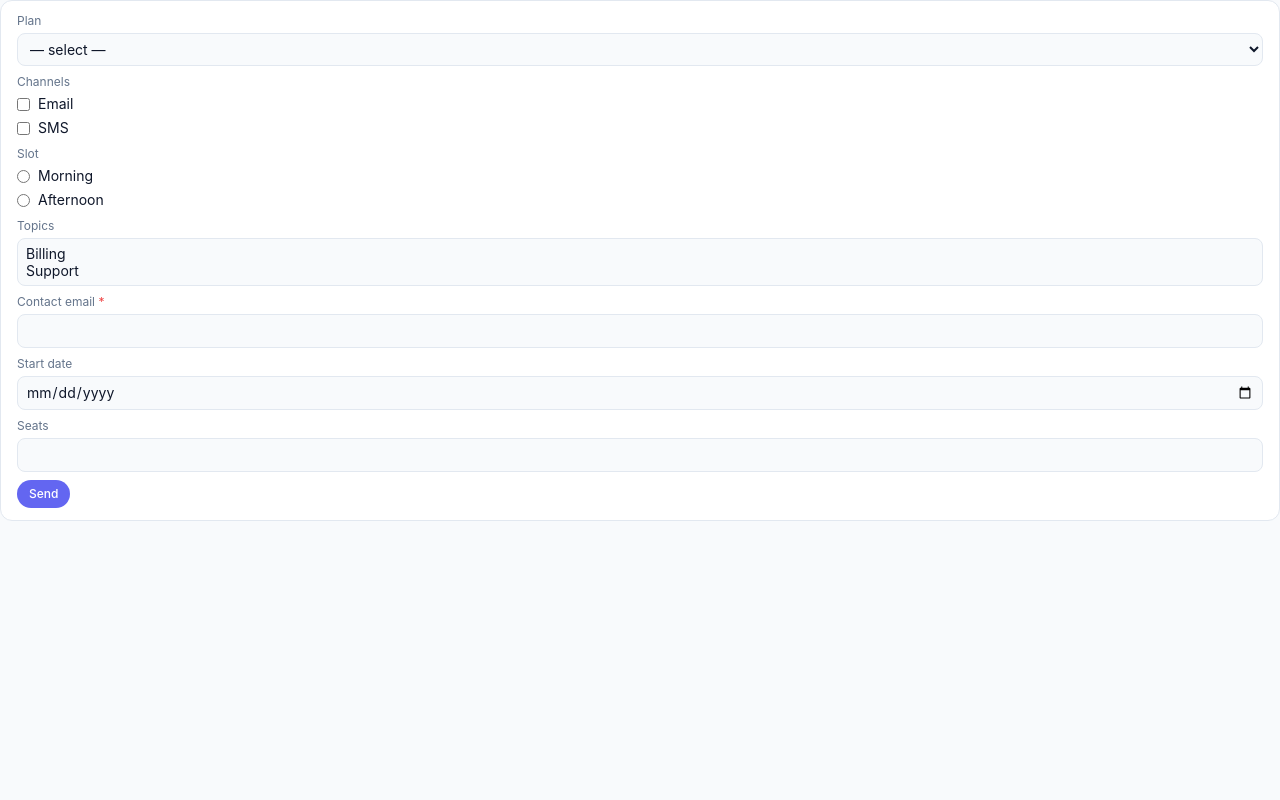
Test: RichCardView form block › rejects an invalid email and an out-of-range number
The image size is (1280, 800).
Step 1. Type "not-an-email" into the field labelled "Contact email *" → (640, 331), box [17,314,1263,348]
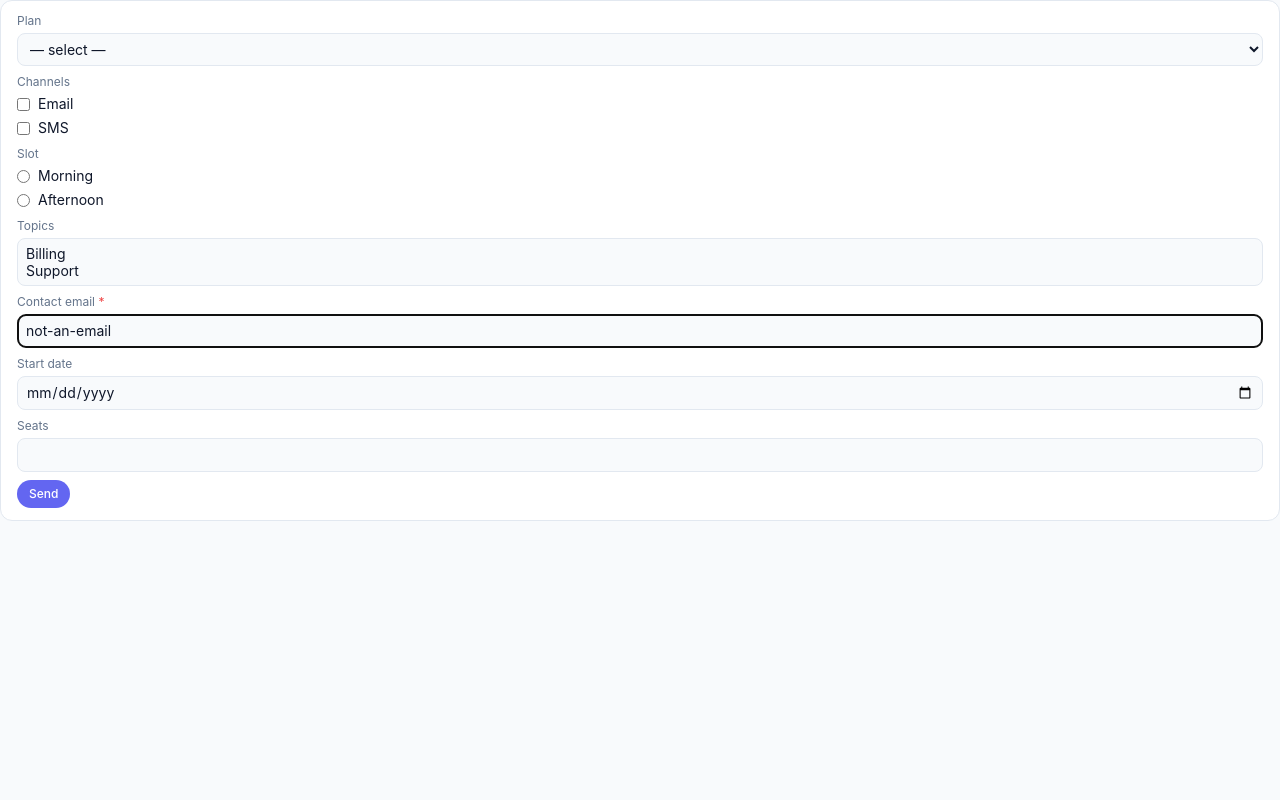
Step 2. Type "9" into the number field labelled "Seats" → (640, 455), box [17,438,1263,472]
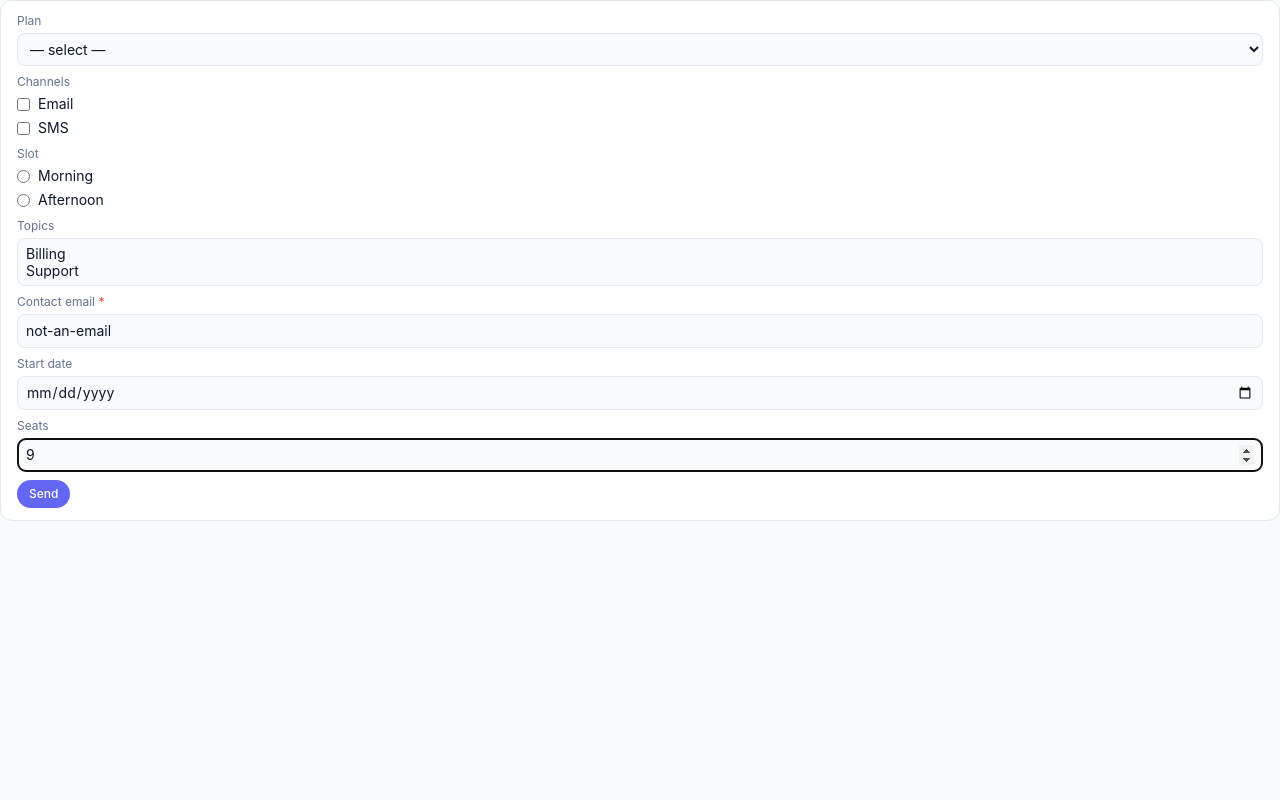
Step 3. Click the button "Send" → (44, 494), box [17,480,70,508]
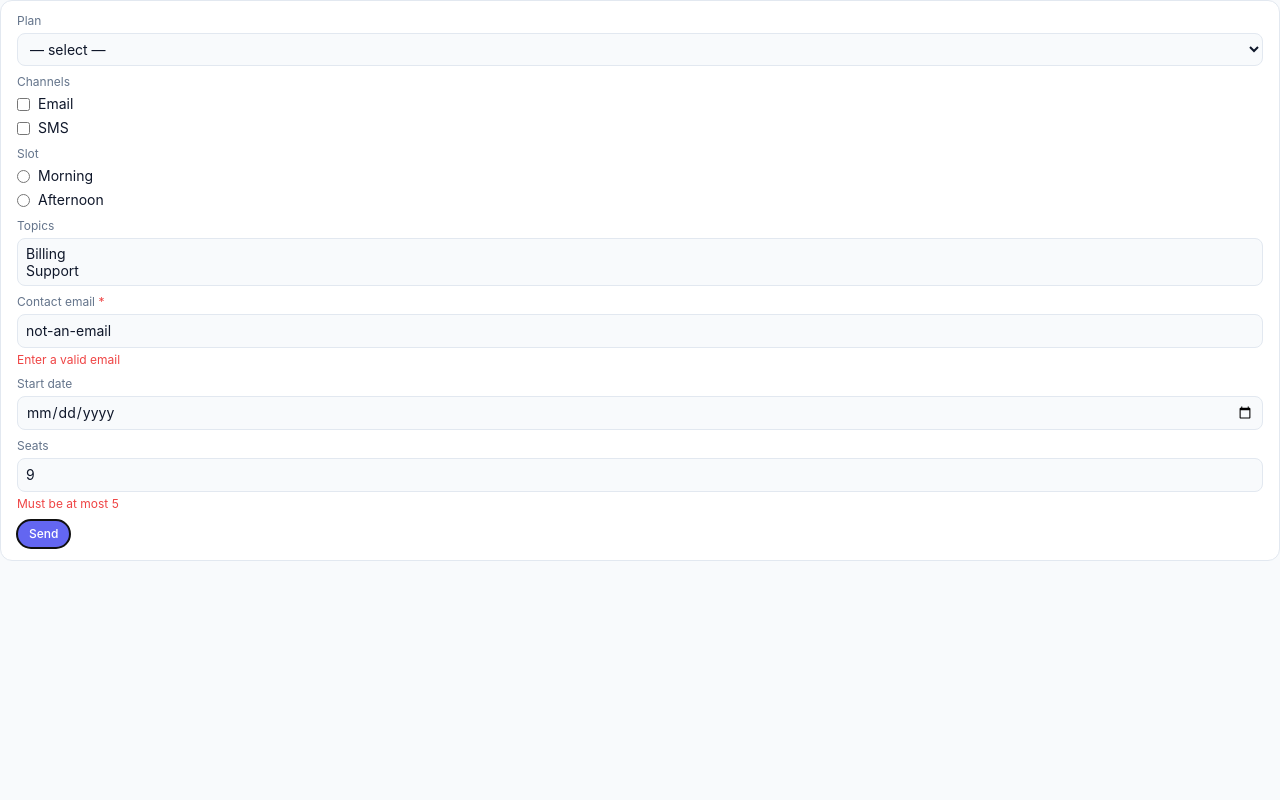
Now the text "Enter a valid email" is shown, box [17,352,120,367]
Now the text "Must be at most 5" is shown, box [17,496,119,511]
